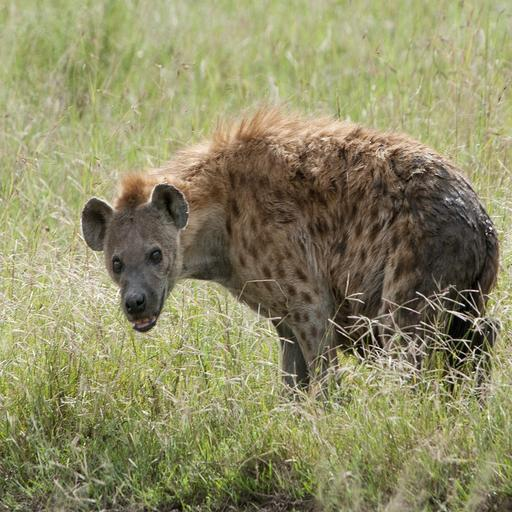Hyena: (80, 101, 508, 418)
